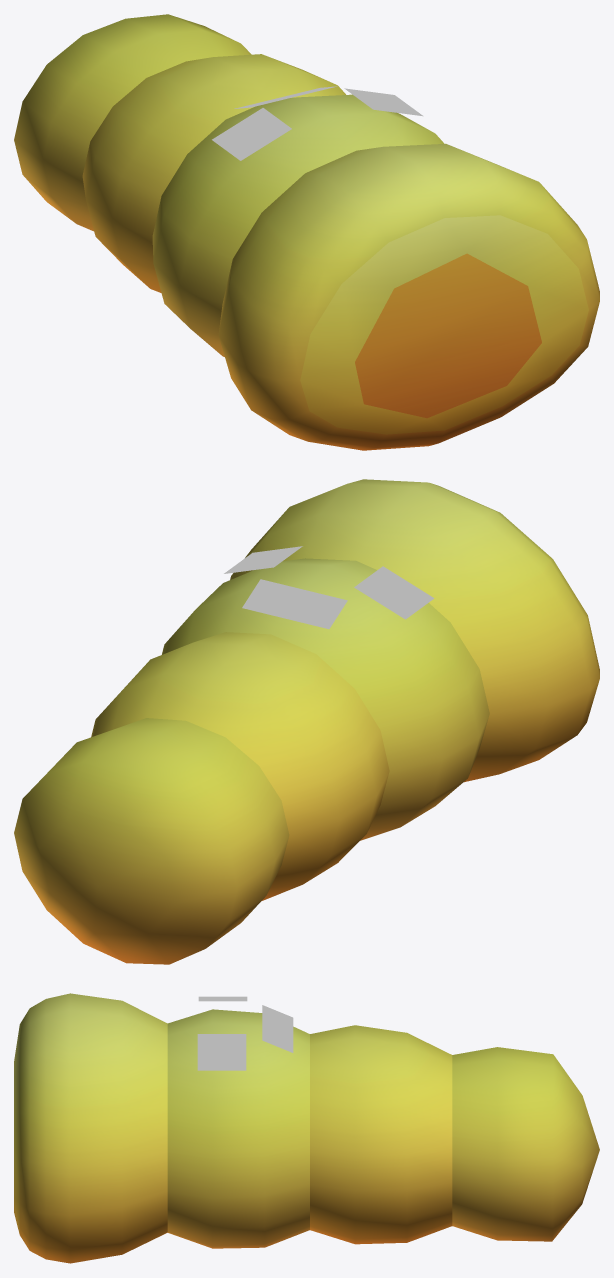
Rendered from sweet_tube_yellow_smile.fbx.
The picture shows the model from 3 angles, top to bottom: view 1: azimuth 30°, elevation 25°; view 2: azimuth 150°, elevation 25°; view 3: azimuth 270°, elevation 25°; orthographic projection. The views are drawn at different scales.
Visible parts, largest first — view 1: pie_yellow, smile_pie; view 2: pie_yellow, smile_pie; view 3: pie_yellow, smile_pie.
Part boxes in pixels (box(x1,y1,x2,y2)): pie_yellow: box(14, 14, 599, 450); smile_pie: box(212, 86, 423, 160); pie_yellow: box(14, 479, 599, 964); smile_pie: box(224, 546, 434, 629); pie_yellow: box(14, 993, 599, 1263); smile_pie: box(197, 996, 293, 1070).
Size of the model in its own units: 34.33 by 25.87 by 58.99.
